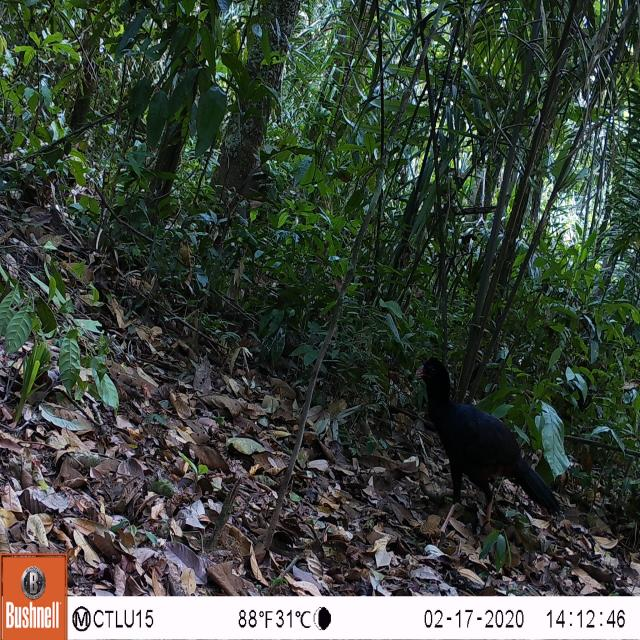Salvins Curassow: (399, 340, 576, 560)
